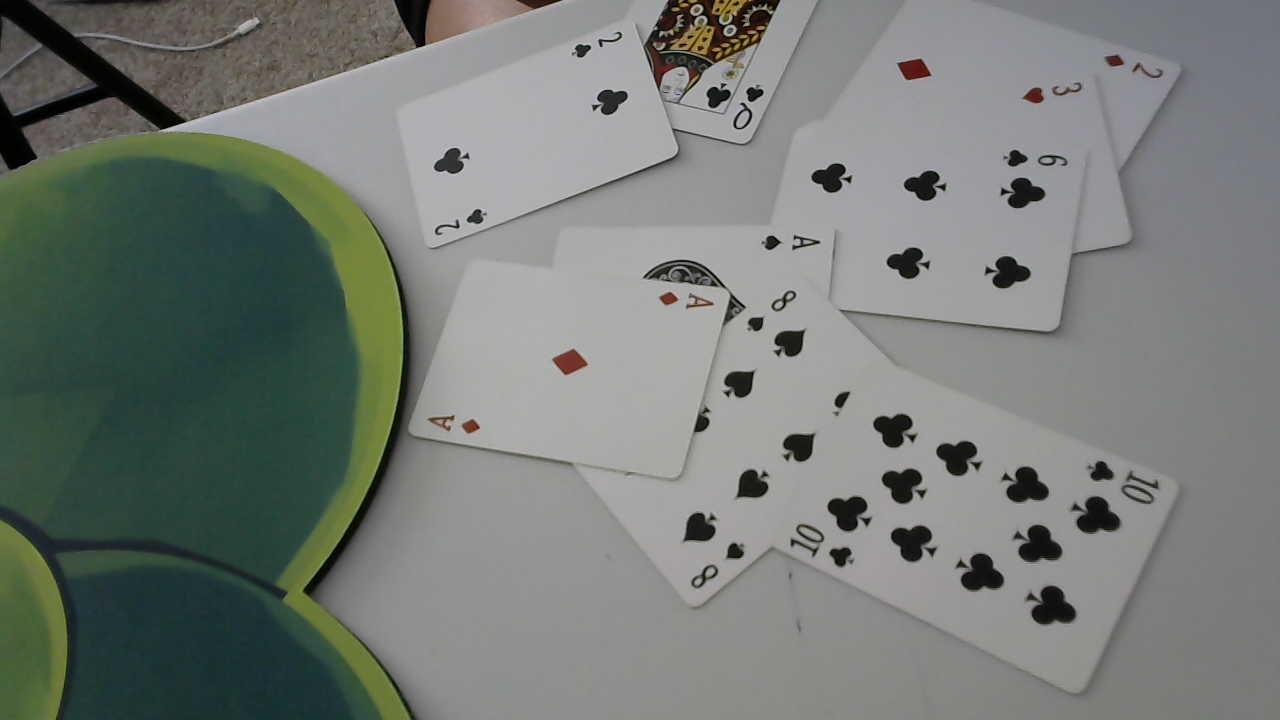10C: (784, 516, 864, 577), (1082, 453, 1165, 511)
2C: (429, 203, 493, 241), (568, 28, 626, 62)
2D: (1100, 45, 1169, 84)
3H: (1018, 77, 1084, 113)
6C: (1000, 141, 1078, 173)
8S: (680, 538, 749, 596), (741, 284, 801, 337)
AD: (422, 403, 487, 438), (653, 283, 715, 314)
AS: (757, 231, 824, 258)
QC: (727, 80, 772, 135)
